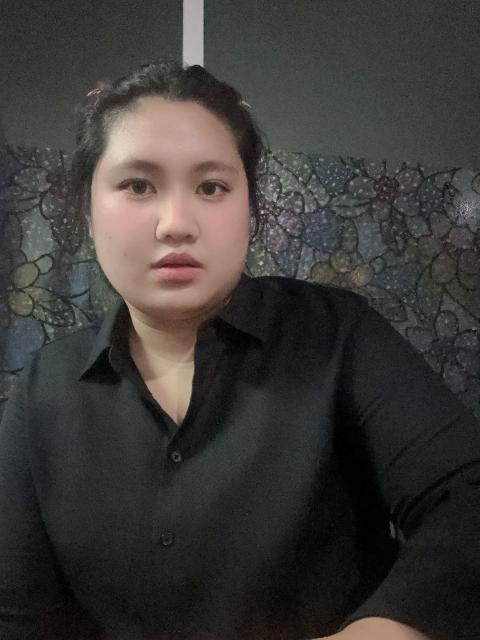fokus: (94, 83, 242, 305)
